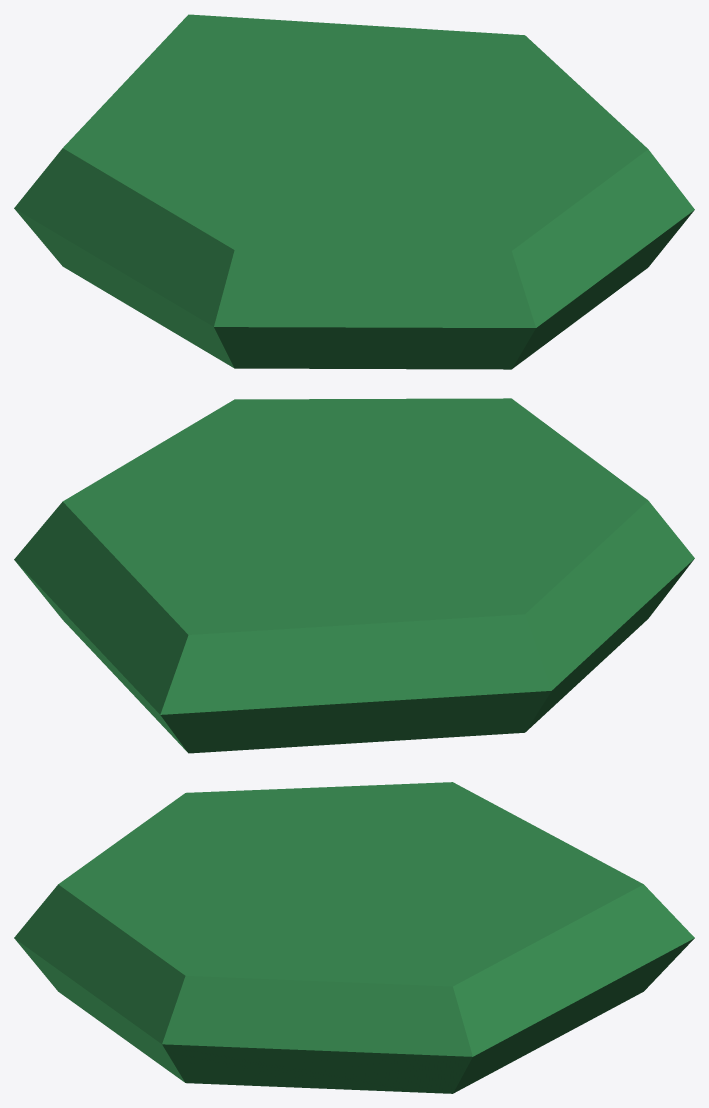
Rendered from player_upgrade_auto_aim.glb.
3 views of the same model, one above another, from view 1: azimuth 30°, elevation 25°; view 2: azimuth 150°, elevation 25°; view 3: azimuth 270°, elevation 25° (orthographic). The views are drawn at different scales.
Parts seen in each view (by area): view 1: PLAYER UPGRADE // AUTO-AIM CORE; view 2: PLAYER UPGRADE // AUTO-AIM CORE; view 3: PLAYER UPGRADE // AUTO-AIM CORE.
Part boxes in pixels (x1=…): PLAYER UPGRADE // AUTO-AIM CORE: x1=14, y1=14, x2=694, y2=369; PLAYER UPGRADE // AUTO-AIM CORE: x1=14, y1=398, x2=694, y2=753; PLAYER UPGRADE // AUTO-AIM CORE: x1=14, y1=782, x2=694, y2=1093.
Size of the model in its own units: 0.76 by 0.16 by 0.92.
